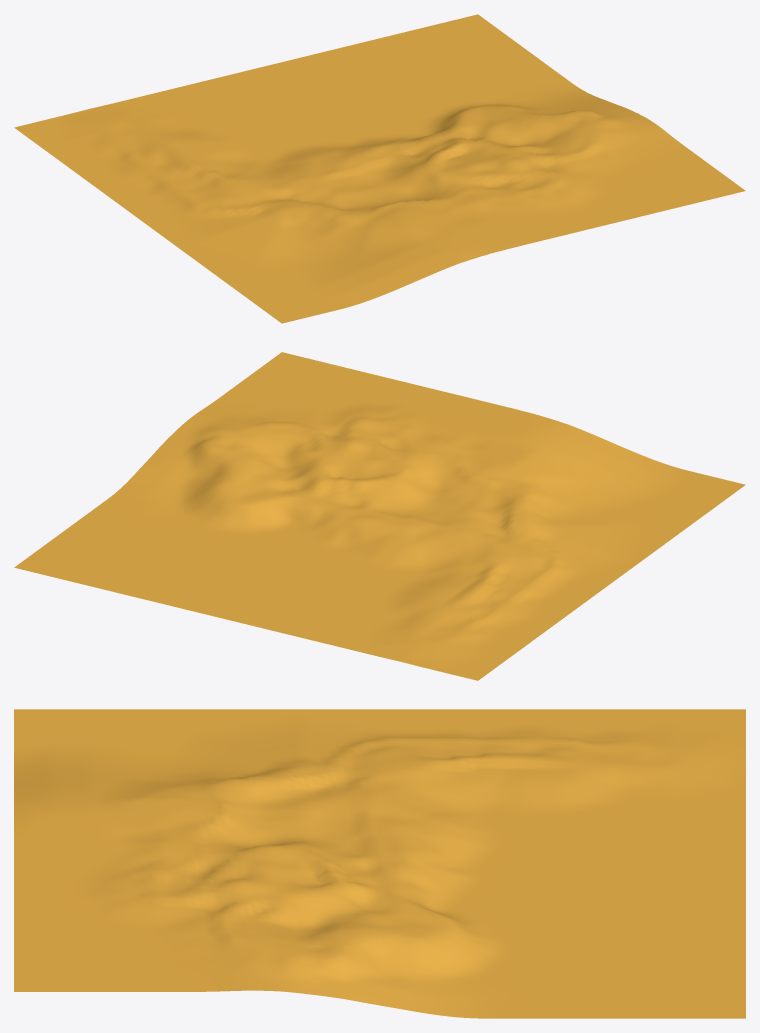
The model's file is Ground.fbx.
The picture shows the model from 3 angles, top to bottom: view 1: azimuth 30°, elevation 25°; view 2: azimuth 150°, elevation 25°; view 3: azimuth 270°, elevation 25°; orthographic projection. The views are drawn at different scales.
Visible parts, largest first — view 1: Ground; view 2: Ground; view 3: Ground.
Part boxes in pixels (<box>): Ground: <box>14,14,745,323</box>; Ground: <box>14,352,745,680</box>; Ground: <box>14,709,745,1018</box>.
Bounding box in the file's own units: 100000 × 5288 × 100000.
